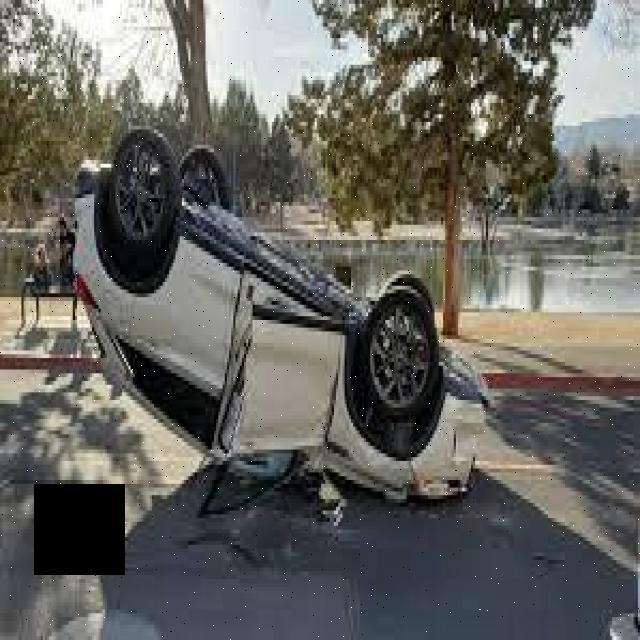accident: (69, 114, 493, 526)
